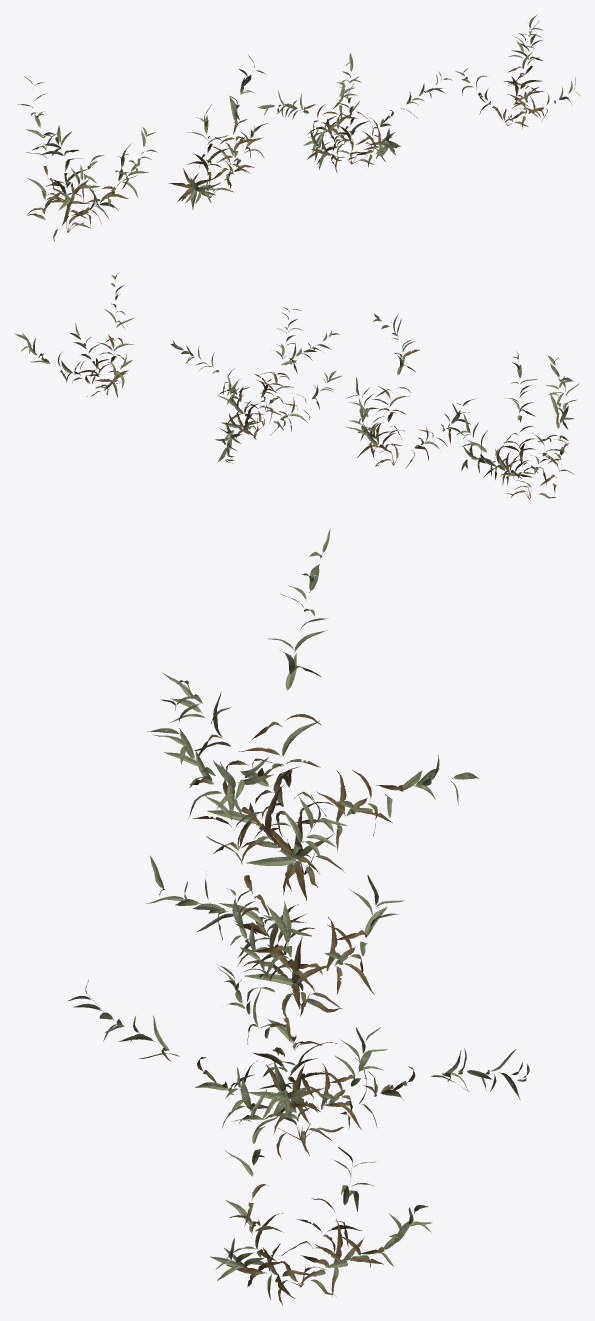
The model's file is shrub_02.glb.
3 renders of one model, top to bottom at view 1: azimuth 30°, elevation 25°; view 2: azimuth 150°, elevation 25°; view 3: azimuth 270°, elevation 25°, orthographic. The views are drawn at different scales.
Parts seen in each view (by area): view 1: shrub_02_c, shrub_02_a, shrub_02_b, shrub_02_d; view 2: shrub_02_c, shrub_02_a, shrub_02_b, shrub_02_d; view 3: shrub_02_a, shrub_02_c, shrub_02_b, shrub_02_d.
Boxes of the visible parts, x1=… form: shrub_02_c: x1=258, y1=53, x2=452, y2=172; shrub_02_a: x1=18, y1=76, x2=157, y2=241; shrub_02_b: x1=168, y1=55, x2=268, y2=209; shrub_02_d: x1=455, y1=15, x2=580, y2=128; shrub_02_c: x1=170, y1=307, x2=341, y2=463; shrub_02_a: x1=456, y1=351, x2=579, y2=499; shrub_02_b: x1=346, y1=313, x2=476, y2=468; shrub_02_d: x1=14, y1=274, x2=134, y2=397; shrub_02_a: x1=147, y1=528, x2=478, y2=900; shrub_02_c: x1=67, y1=888, x2=529, y2=1158; shrub_02_b: x1=145, y1=757, x2=404, y2=1017; shrub_02_d: x1=210, y1=1067, x2=432, y2=1305.
Bounding box in the file's own units: 6.05 × 1.7 × 2.29.
Materials: 1 (1 with a texture image).
